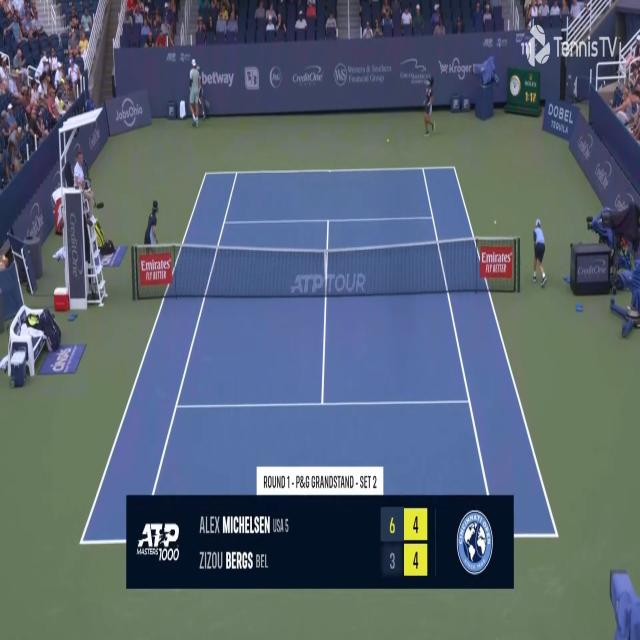tennis-player: (188, 57, 203, 129)
